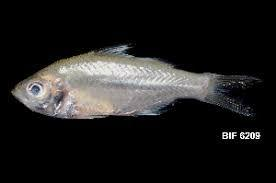Glass Perchlet: (13, 45, 263, 120)
